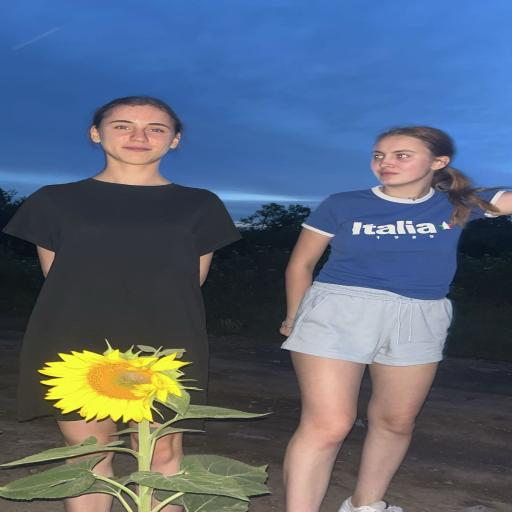masa: (96, 101, 182, 166)
